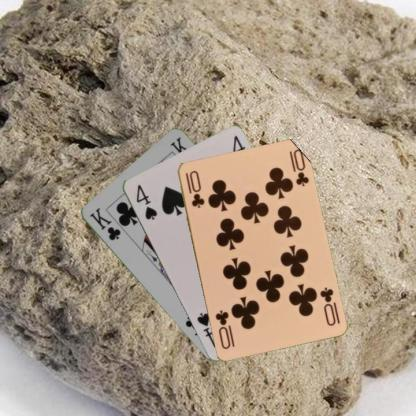10c: (182, 168, 206, 210), (316, 284, 336, 327)
4s: (133, 182, 158, 222)
Kc: (87, 205, 122, 242)
